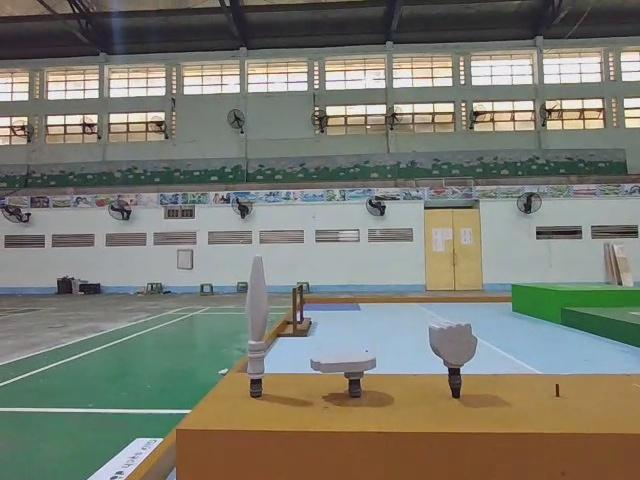Fist: (425, 318, 478, 399)
Hand: (307, 349, 378, 401)
Sph: (243, 253, 274, 402)
